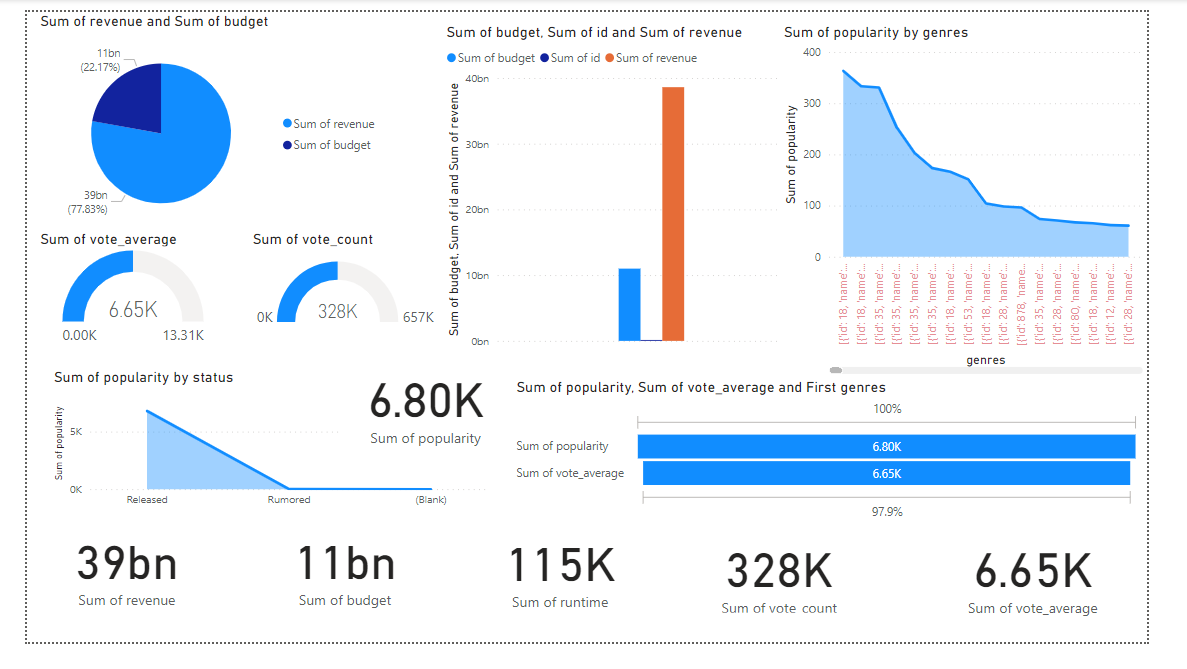

What the dashboard file says about the page in this screenshot:
{"tool":"powerbi","page":{"name":"Page 1","canvas":[1280,720],"ordinal":0},"visuals":[{"type":"pieChart","fields":{"Y":["Sum(Sheet1.revenue)","Sum(Sheet1.budget)"]},"box":[10,0,401.4,258.6],"z":0},{"type":"clusteredColumnChart","fields":{"Y":["Sum(Sheet1.budget)","Sum(Sheet1.id)","Sum(Sheet1.revenue)"]},"box":[474.3,12.9,424.3,377.1],"z":1},{"type":"gauge","fields":{"Y":["Sum(Sheet1.vote_average)"]},"box":[10,248.6,222.9,141.4],"z":2},{"type":"gauge","fields":{"Y":["Sum(Sheet1.vote_count)"]},"box":[252.9,248.6,221.4,128.6],"z":3},{"type":"stackedAreaChart","fields":{"Category":["Sheet1.status"],"Y":["Sum(Sheet1.popularity)"]},"box":[25.7,407.1,505.7,168.6],"z":4},{"type":"funnel","fields":{"Y":["Sum(Sheet1.popularity)","Sum(Sheet1.vote_average)"]},"box":[554.3,418.6,722.9,167.1],"z":5},{"type":"stackedAreaChart","fields":{"Category":["Sheet1.genres"],"Y":["Sum(Sheet1.popularity)"]},"box":[860,12.9,420,405.7],"z":6},{"type":"card","fields":{"Values":["Sum(Sheet1.revenue)"]},"box":[25.7,575.7,177.1,115.7],"z":8},{"type":"card","fields":{"Values":["Sum(Sheet1.budget)"]},"box":[228.6,575.7,270,115.7],"z":9},{"type":"card","fields":{"Values":["Sum(Sheet1.runtime)"]},"box":[498.6,577.1,221.4,115.7],"z":10},{"type":"card","fields":{"Values":["Sum(Sheet1.popularity)"]},"box":[357.1,390,197.1,114.3],"z":11},{"type":"card","fields":{"Values":["Sum(Sheet1.vote_count)"]},"box":[765.7,592.9,188.6,98.6],"z":12},{"type":"card","fields":{"Values":["Sum(Sheet1.vote_average)"]},"box":[1058.6,585.7,181.4,112.9],"z":13}]}

Visuals, with their boxes in screenshot pixels (x1, y1, x2, y2), scaled from the page's 1280x720 canvas onto the 1187x669 screenshot:
pieChart - Sum(Sheet1.revenue) x Sum(Sheet1.budget): BBox(9, 0, 382, 240)
clusteredColumnChart - Sum(Sheet1.budget) x Sum(Sheet1.id): BBox(440, 12, 833, 362)
gauge - Sum(Sheet1.vote_average): BBox(9, 231, 216, 362)
gauge - Sum(Sheet1.vote_count): BBox(235, 231, 440, 350)
stackedAreaChart - Sheet1.status x Sum(Sheet1.popularity): BBox(24, 378, 493, 535)
funnel - Sum(Sheet1.popularity) x Sum(Sheet1.vote_average): BBox(514, 389, 1184, 544)
stackedAreaChart - Sheet1.genres x Sum(Sheet1.popularity): BBox(798, 12, 1186, 389)
card - Sum(Sheet1.revenue): BBox(24, 535, 188, 642)
card - Sum(Sheet1.budget): BBox(212, 535, 462, 642)
card - Sum(Sheet1.runtime): BBox(462, 536, 668, 644)
card - Sum(Sheet1.popularity): BBox(331, 362, 514, 469)
card - Sum(Sheet1.vote_count): BBox(710, 551, 885, 643)
card - Sum(Sheet1.vote_average): BBox(982, 544, 1150, 649)
